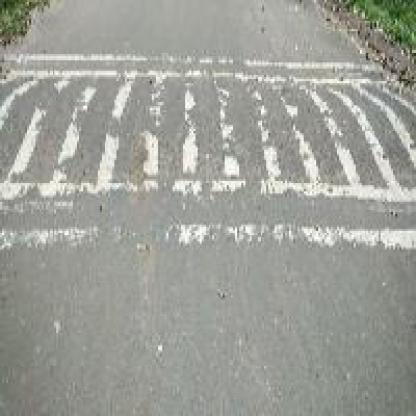Speed Bump: (0, 54, 404, 252)
